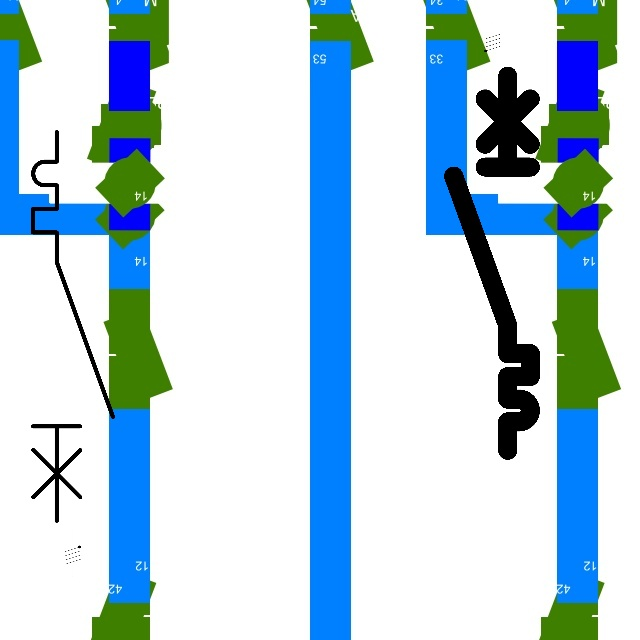interruptor_termomagnetico: (23, 122, 123, 531), (444, 66, 540, 460)
